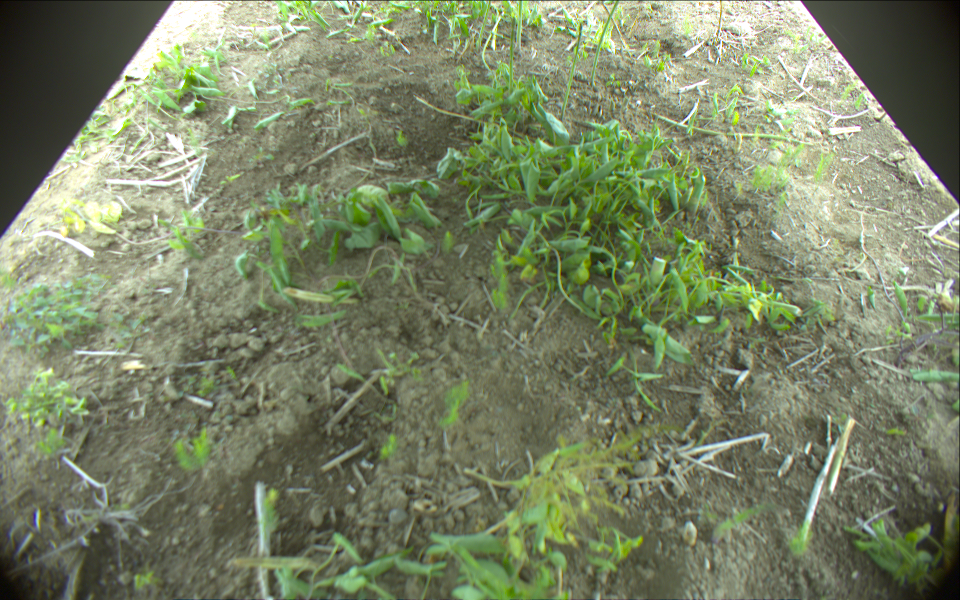aspa: (412, 97, 550, 140), (658, 112, 817, 147), (591, 1, 619, 85), (562, 22, 583, 123), (481, 11, 504, 79), (600, 1, 629, 50), (507, 16, 515, 101), (479, 1, 491, 47), (516, 1, 524, 50), (718, 1, 724, 39)
